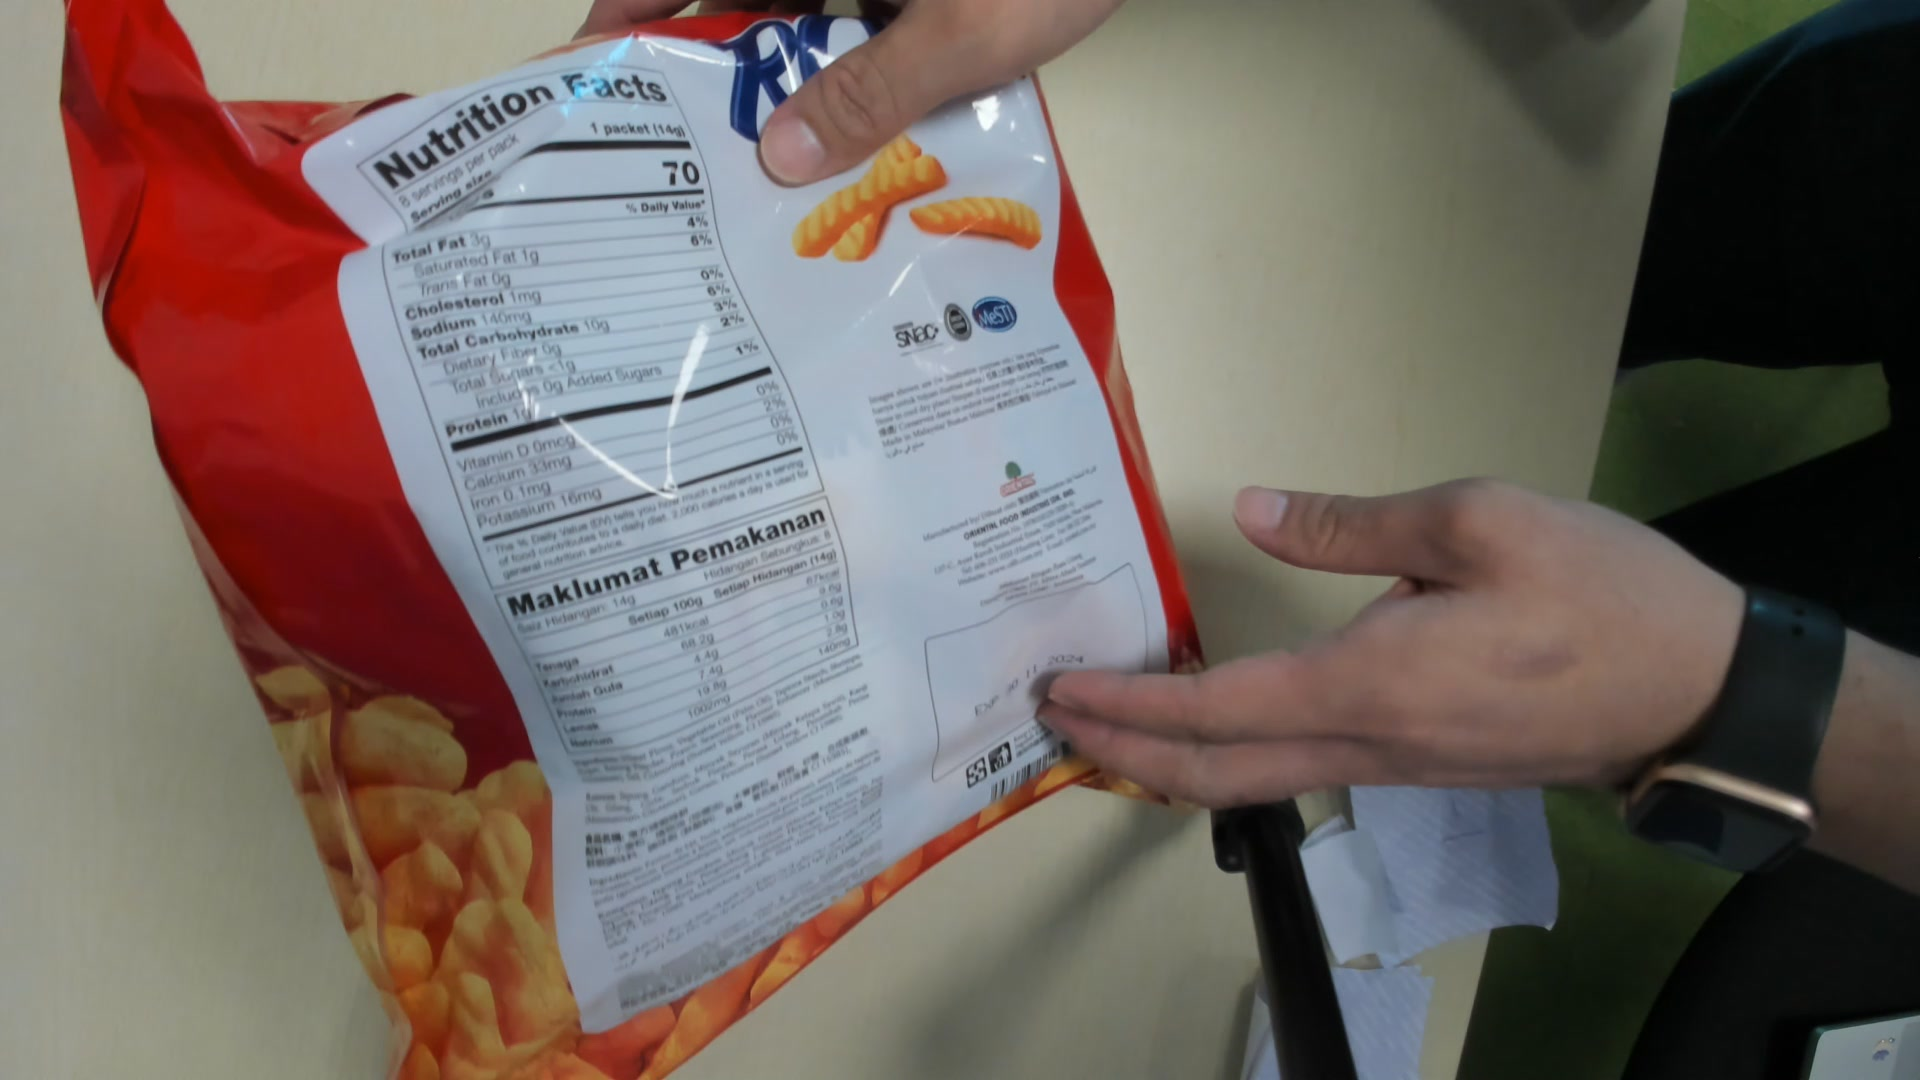PotatoChipsKeropok_100-199g_Halal_NonHealthy: (87, 1, 1204, 1080)
